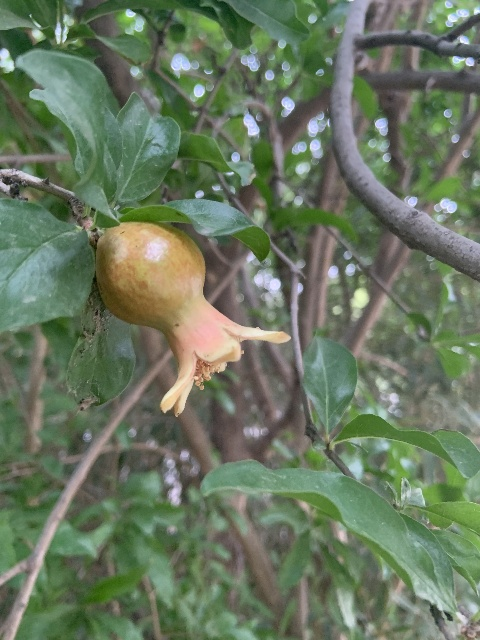early-fruit: (95, 221, 290, 418)
